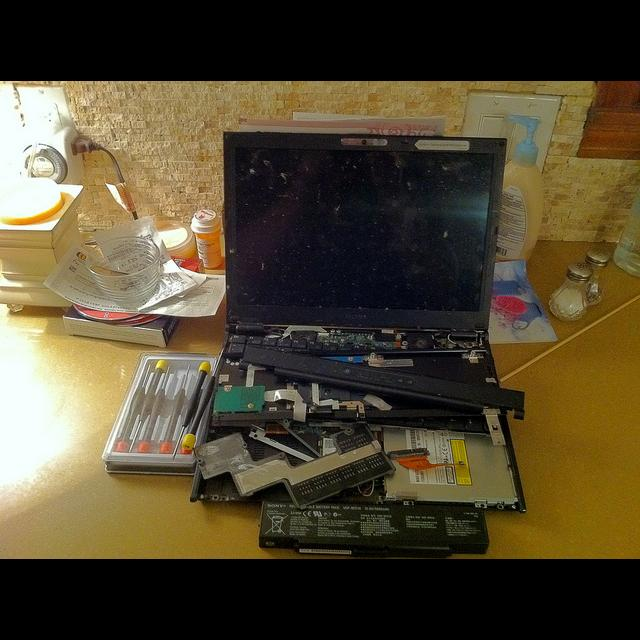Laptop: (191, 131, 528, 513)
